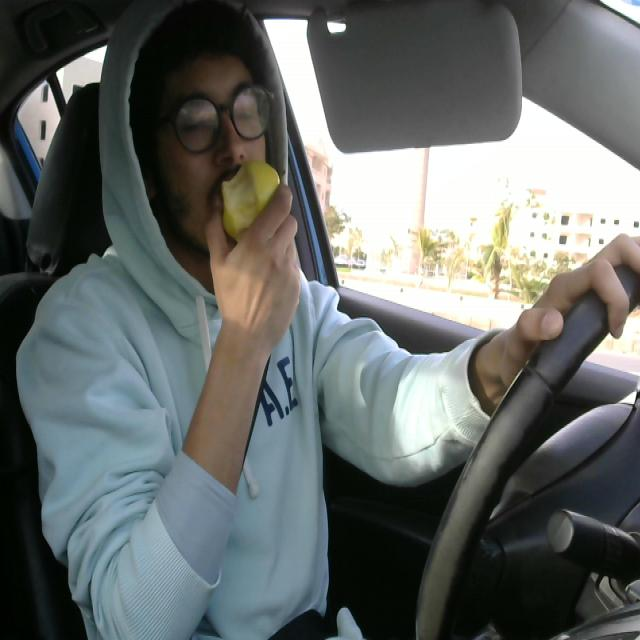eating: (219, 151, 292, 242)
